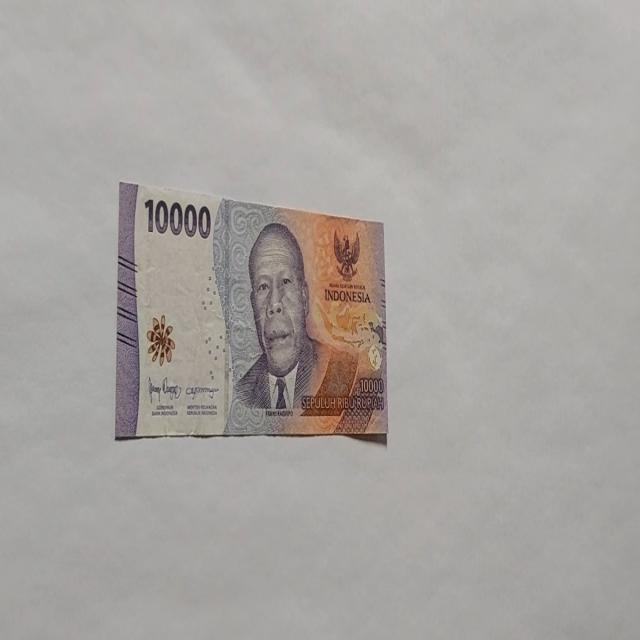sepuluh ribu rupiah: (114, 178, 388, 442), (222, 220, 359, 436)
